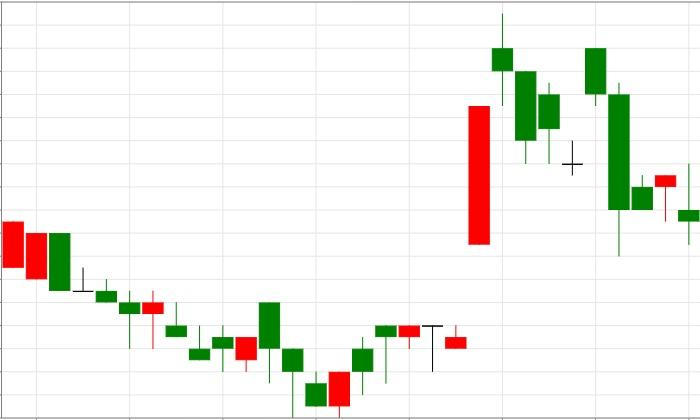evening_star_fall: (328, 13, 537, 417)
